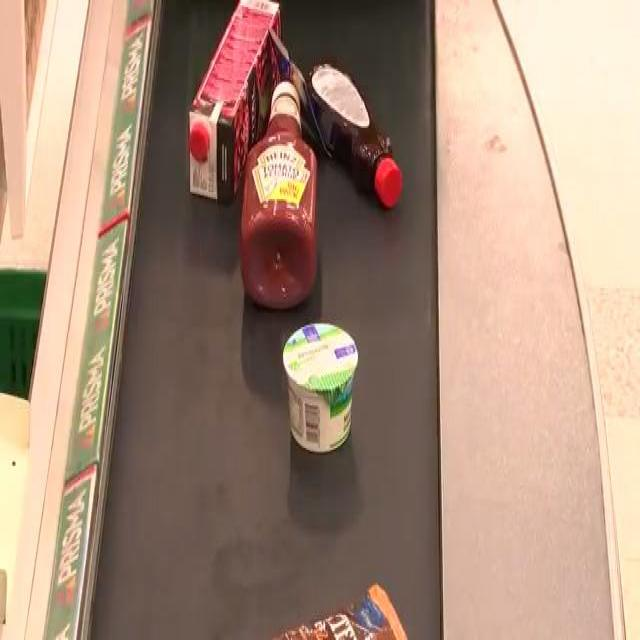food-box: (188, 0, 283, 199), (245, 91, 315, 318), (313, 68, 407, 204), (286, 318, 356, 457)
